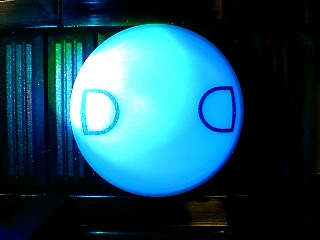MIPO2: (69, 23, 244, 197)
